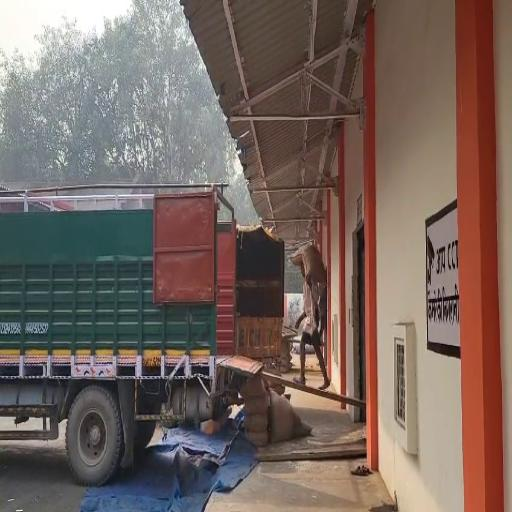bag: (289, 238, 328, 290)
